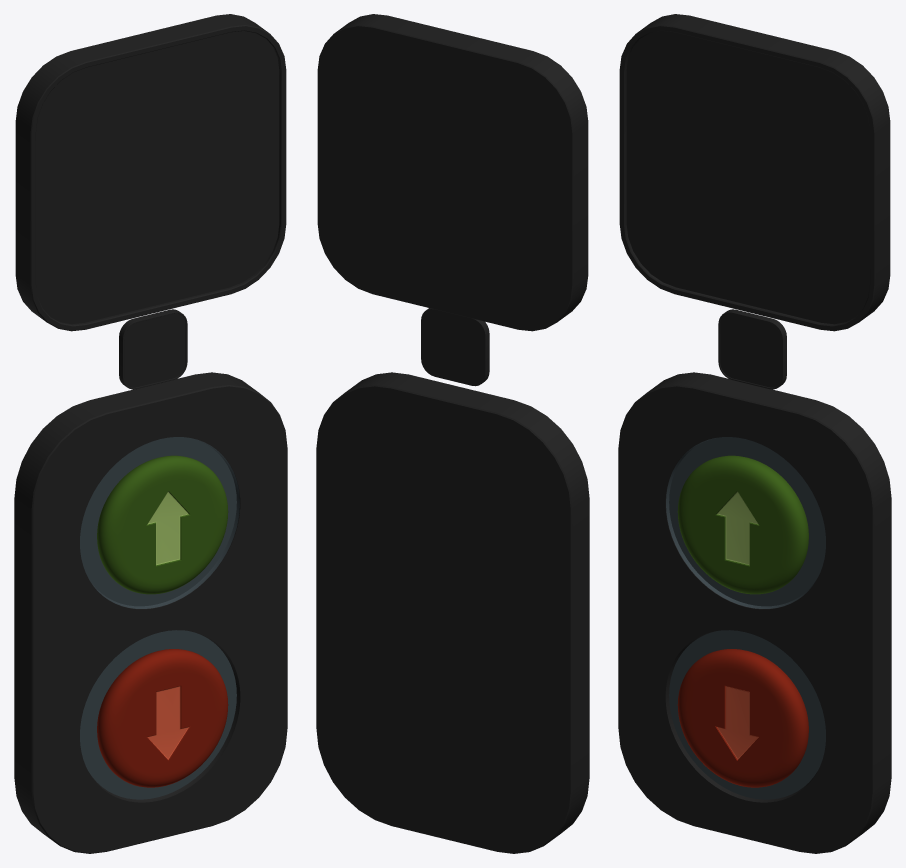
File: buttons.fbx
The picture shows the model from 3 angles, left to right: view 1: azimuth 30°, elevation 25°; view 2: azimuth 150°, elevation 25°; view 3: azimuth 330°, elevation 25°; orthographic projection.
Visible parts, largest first — view 1: panel, numDisplay, buttonUp, buttonDown, colorDisplay; view 2: panel, numDisplay, colorDisplay; view 3: panel, numDisplay, buttonUp, buttonDown, colorDisplay.
Boxes of the visible parts, box(x1,y1,x2,y2) form: panel: box(14, 372, 287, 853); numDisplay: box(15, 14, 286, 331); buttonUp: box(97, 455, 228, 594); buttonDown: box(97, 649, 228, 787); colorDisplay: box(119, 309, 187, 389); panel: box(316, 372, 589, 853); numDisplay: box(317, 14, 588, 331); colorDisplay: box(421, 308, 489, 386); panel: box(618, 372, 891, 853); numDisplay: box(619, 14, 890, 331); buttonUp: box(677, 455, 808, 594); buttonDown: box(677, 649, 808, 787); colorDisplay: box(718, 309, 786, 389).
Bounding box in the file's own units: 200 × 593 × 36.36.
Materials: 1 (1 with a texture image).
